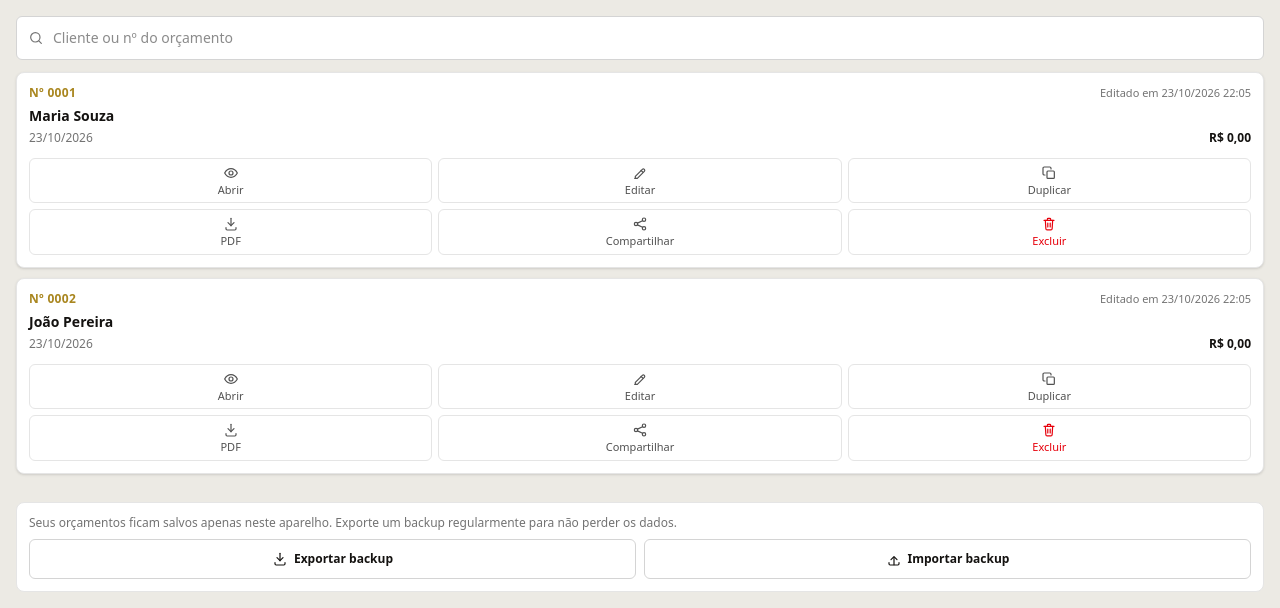
Test case: HistoryScreen › busca por parte do nome do cliente, sem diferenciar maiúsculas/minúsculas
In the search field with placeholder "Cliente ou nº do orçamento": (640, 38) [16,16,1264,60], type "MARIA"
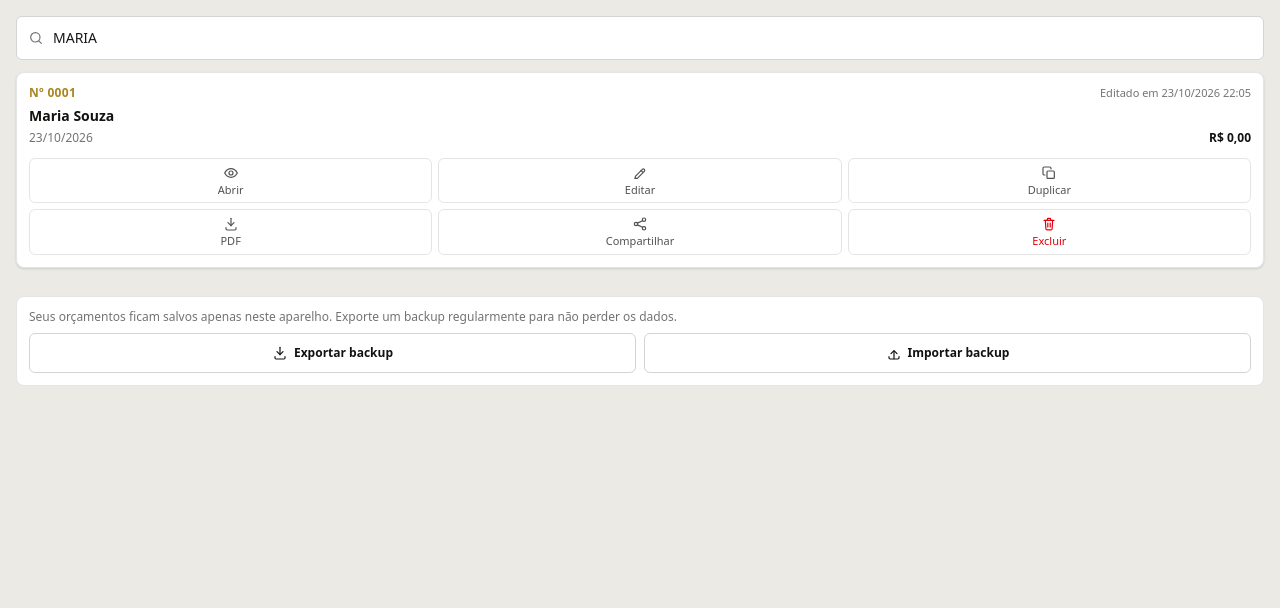
Expected: the text "Maria Souza" is shown, [29,106,114,126]
Expected: the button "João Pereira" is gone
